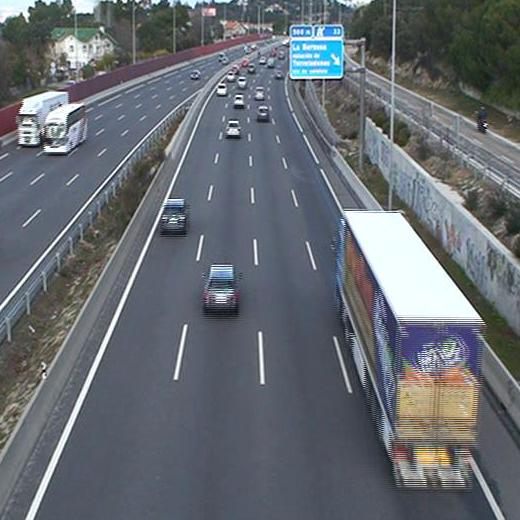car: (203, 266, 236, 308), (161, 200, 187, 232), (226, 120, 241, 137), (256, 107, 270, 121), (215, 82, 228, 95), (232, 95, 245, 107), (238, 74, 247, 90), (247, 62, 257, 74), (254, 87, 263, 100), (226, 69, 234, 81)
truck: (334, 211, 484, 489)
